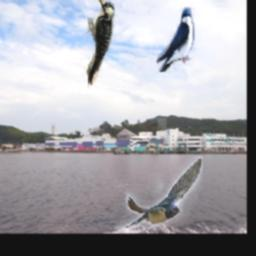Swallow: (115, 157, 203, 231), (156, 8, 194, 73)
Woodpecker: (82, 0, 118, 92)
